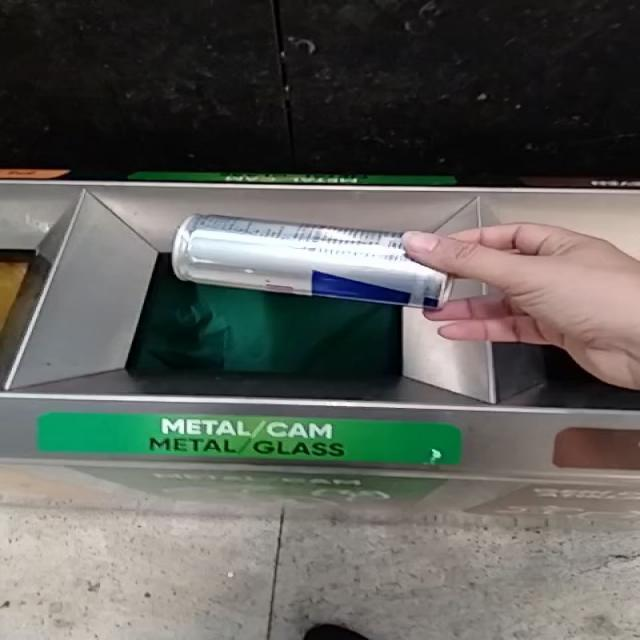Bin: (0, 180, 640, 478)
Metal: (172, 214, 449, 308)
